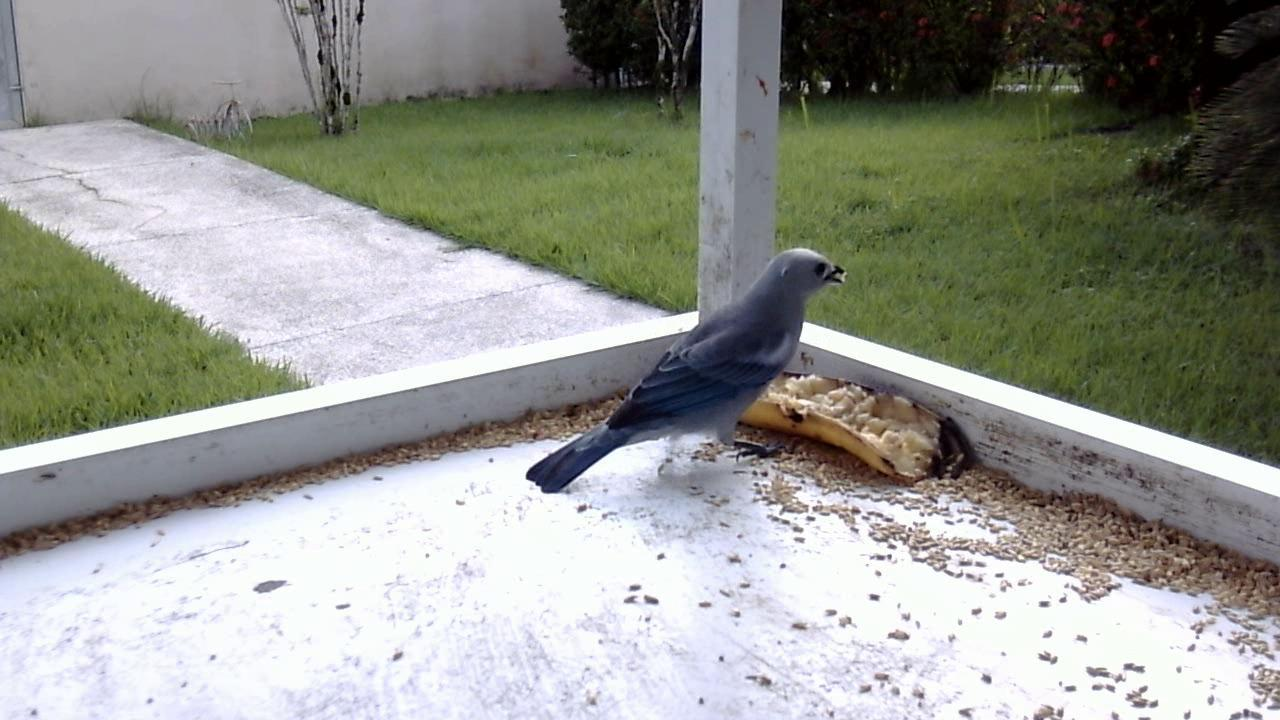sanhaco_da_amazonia: (528, 246, 854, 504)
